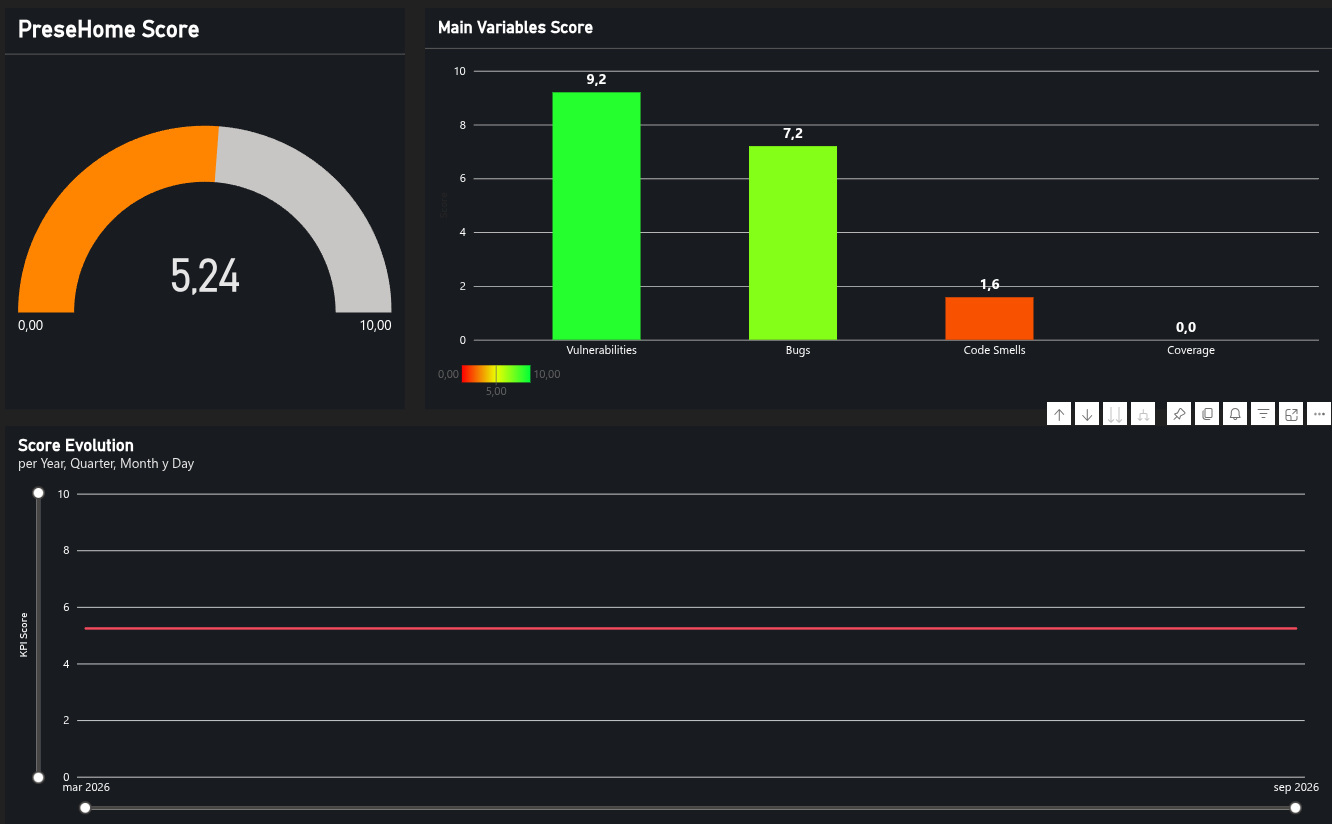

This screenshot's page, from the dashboard's own definition file:
{"tool":"powerbi","page":{"name":"KPI Score","canvas":[1920,1080],"ordinal":0},"visuals":[{"type":"gauge","title":"PreseHome Score","fields":{"Y":["kpi_history.Latest KPI Score"]},"box":[145,28.3,490,491.7],"z":0},{"type":"columnChart","title":"Main Variables Score","fields":{"Category":["Metric.MetricName"],"Y":["Metric.Latest Norm Score"]},"box":[660,28.3,1111.7,491.7],"z":1000},{"type":"lineChart","title":"Score Evolution","fields":{"Category":["kpi_history.timestamp.Variación.Date Hierarchy.Year","kpi_history.timestamp.Variación.Date Hierarchy.Quarter","kpi_history.timestamp.Variación.Date Hierarchy.Month","kpi_history.timestamp.Variación.Date Hierarchy.Day"],"Y":["kpi_history.KPI Score"]},"box":[145,540,1626.7,490],"z":2000}]}

Visuals, with their boxes on the page's 1920x1080 design canvas (x1, y1, x2, y2). These are canvas units, not pixel positions in the 1332x824 screenshot, which may show the page scaled, cropped or inside an application window:
"PreseHome Score" gauge: locate(145, 28, 635, 520)
"Main Variables Score" columnChart: locate(660, 28, 1772, 520)
"Score Evolution" lineChart: locate(145, 540, 1772, 1030)
